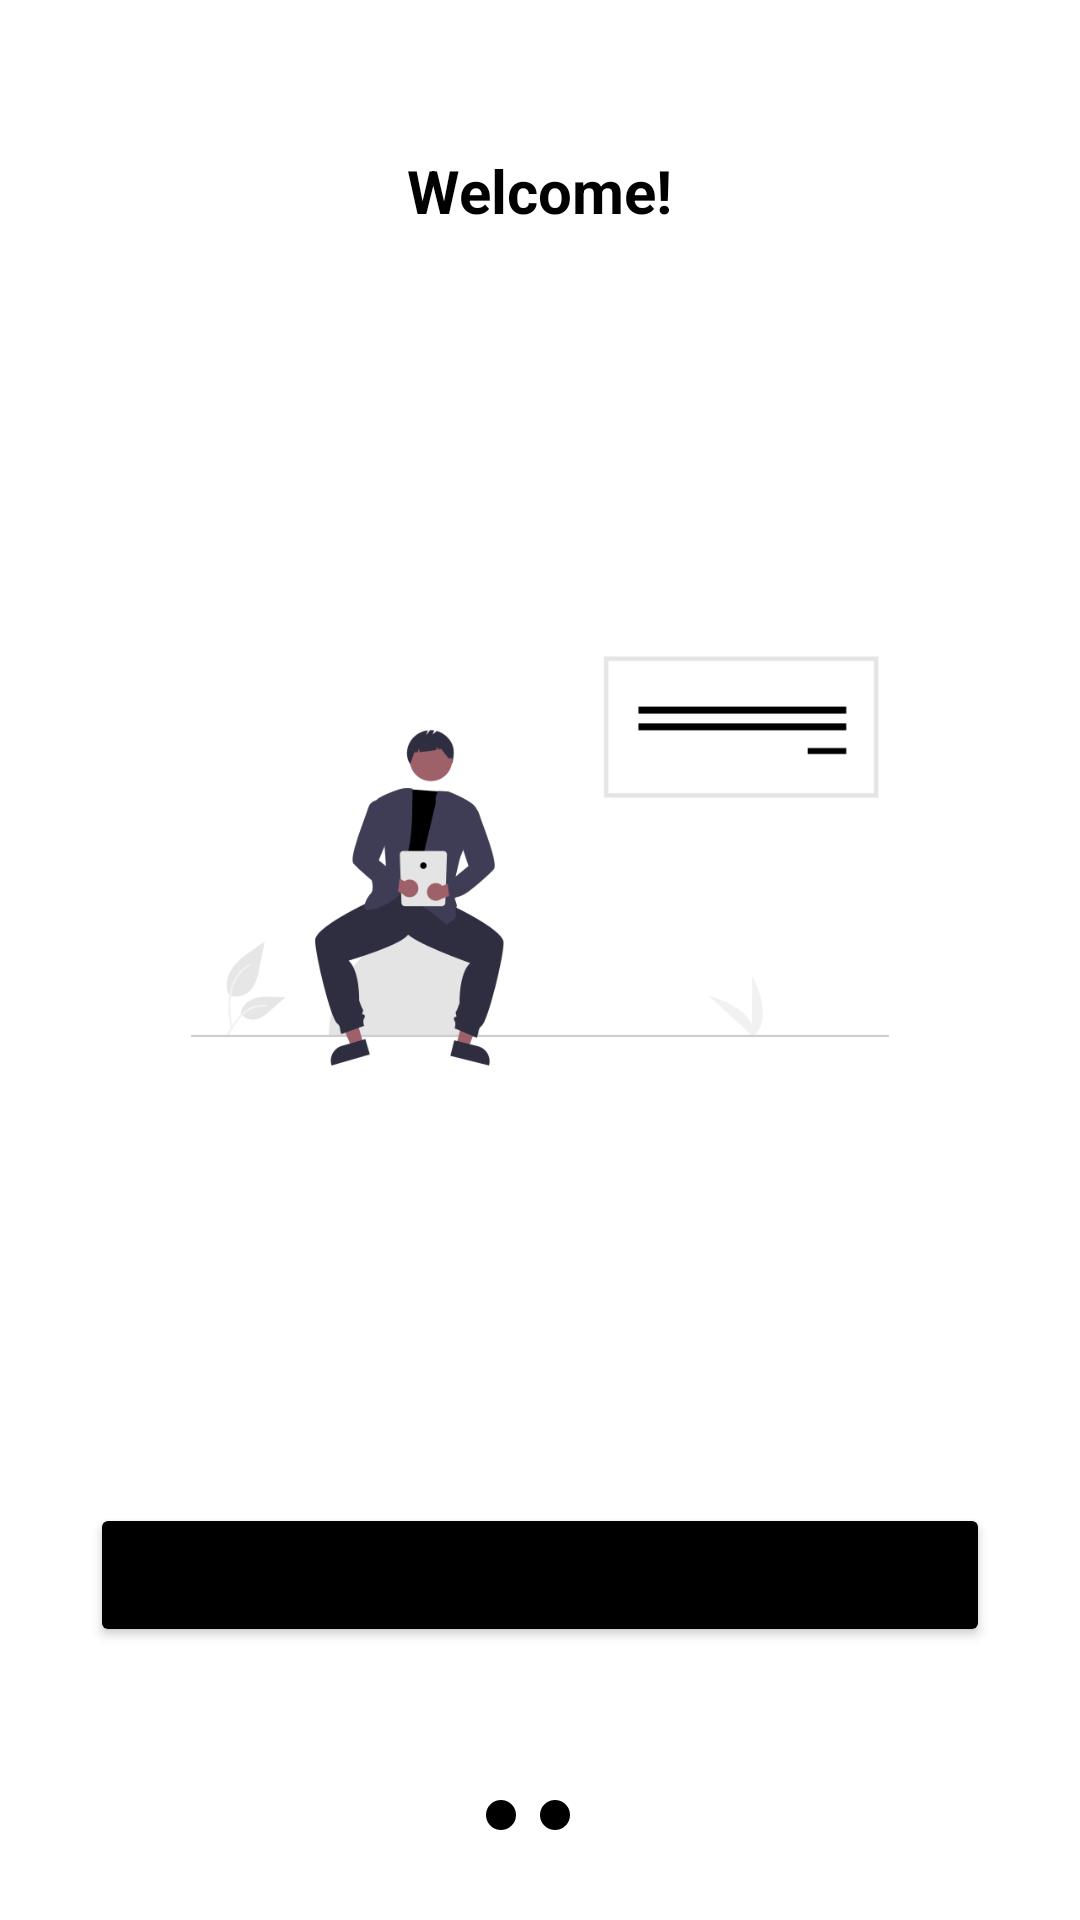

Where to tap for icons on this 1080px×1920px app screen, as [x,y]:
dot select: [501,1815], [555,1815]
